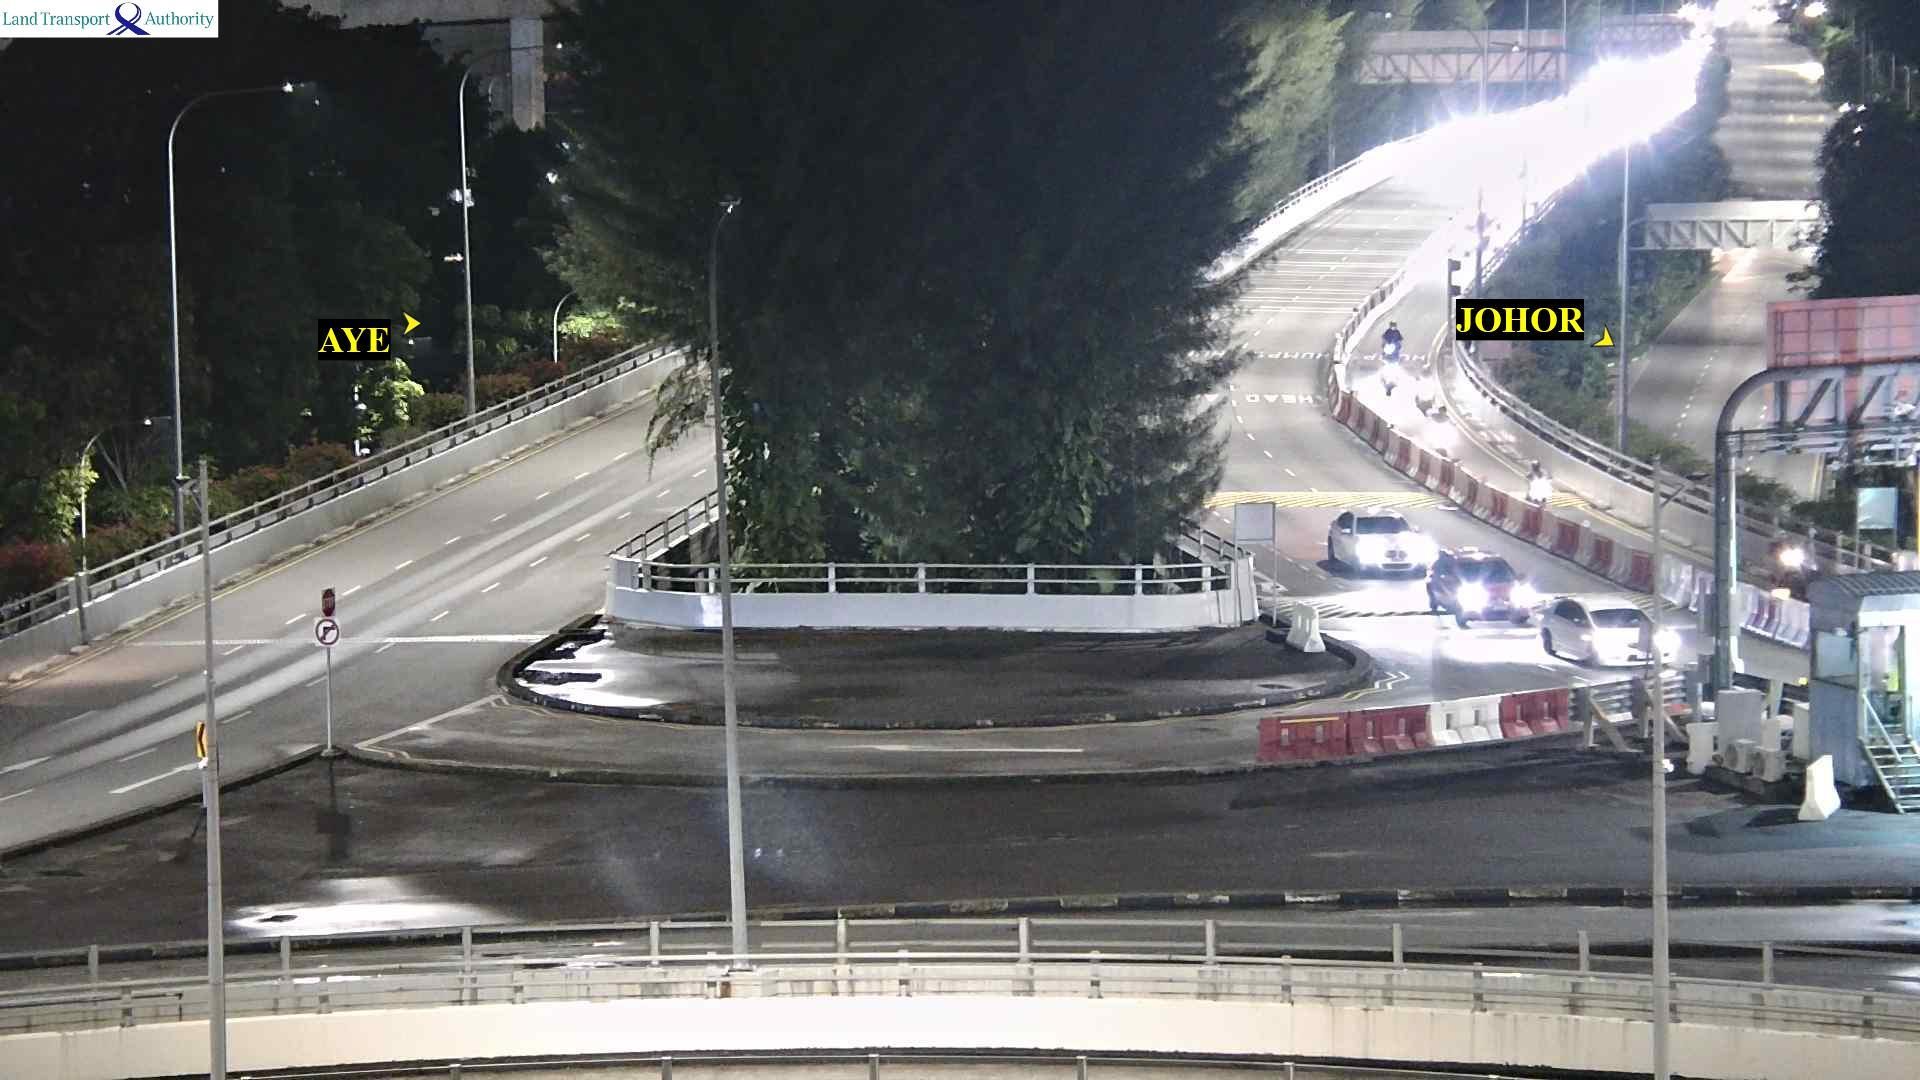vehicle-secondlink-johor: (1549, 597, 1692, 665), (1432, 550, 1544, 625), (1327, 506, 1435, 574), (1778, 533, 1813, 585), (1526, 464, 1553, 510), (1387, 323, 1404, 363)
